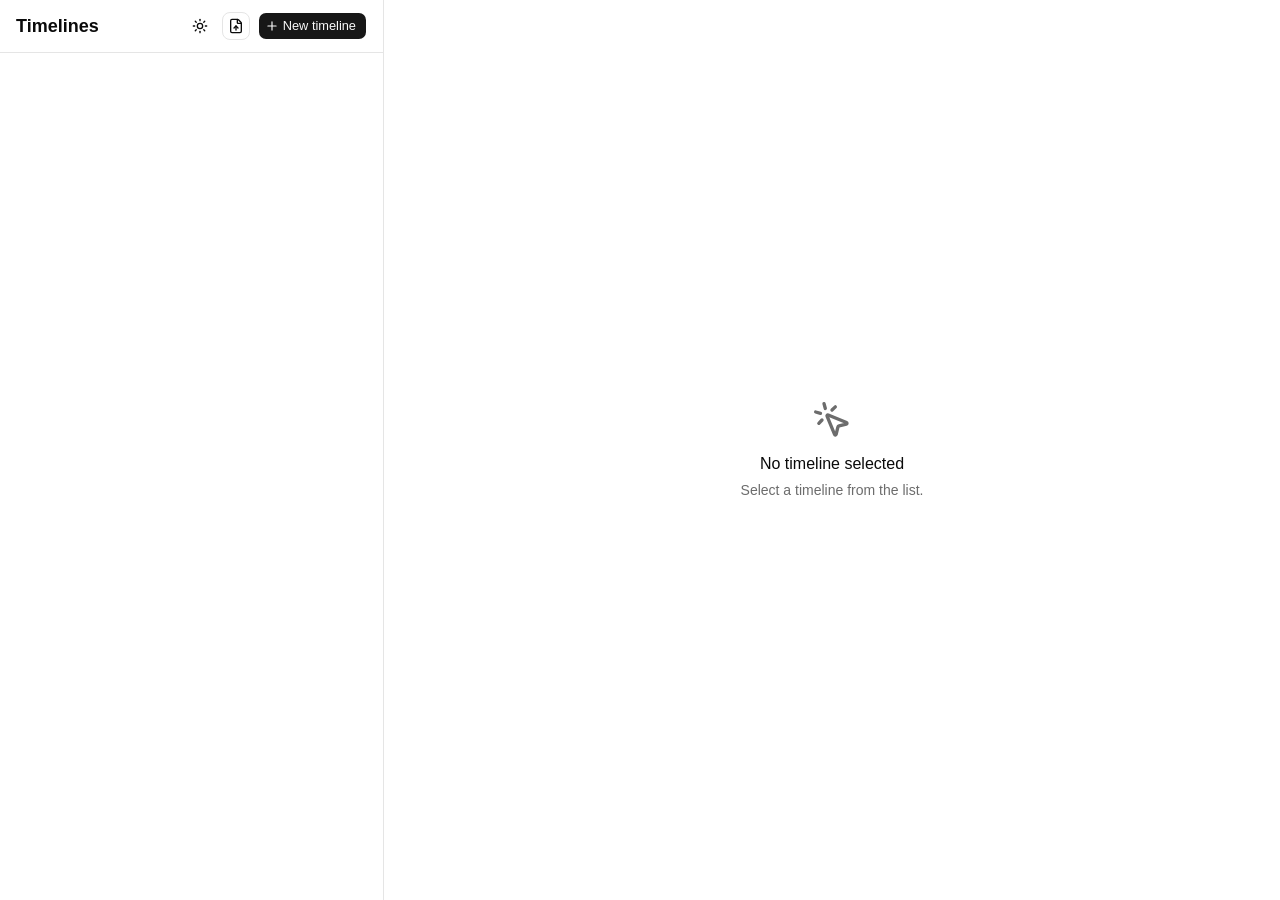
Scenario: dashboard › cancel closes the create dialog after confirming and writes nothing
Click the link "New timeline": (312, 26) [258,12,367,40]
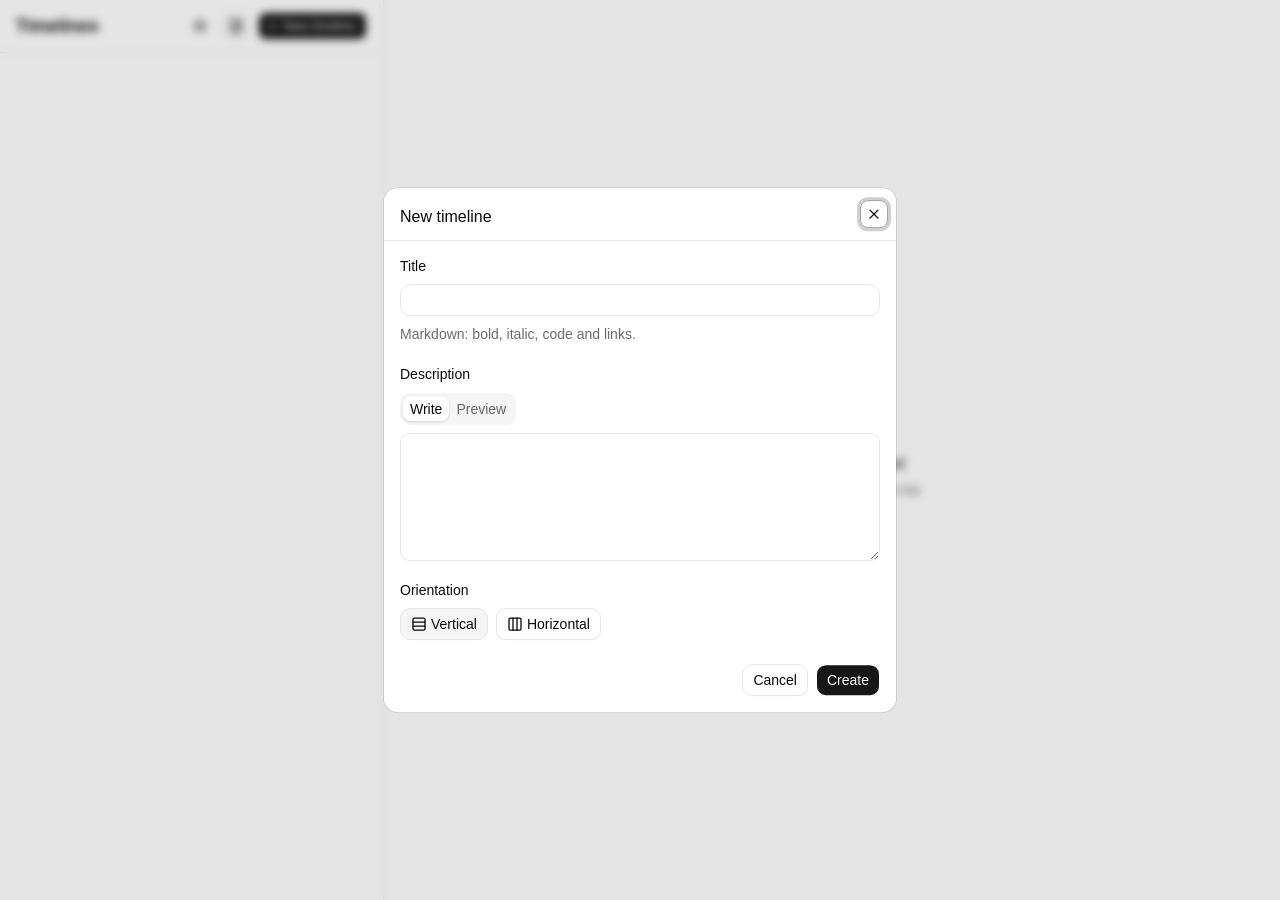
In the field labelled "Title": (640, 300) [400,284,880,316], type "Draft"
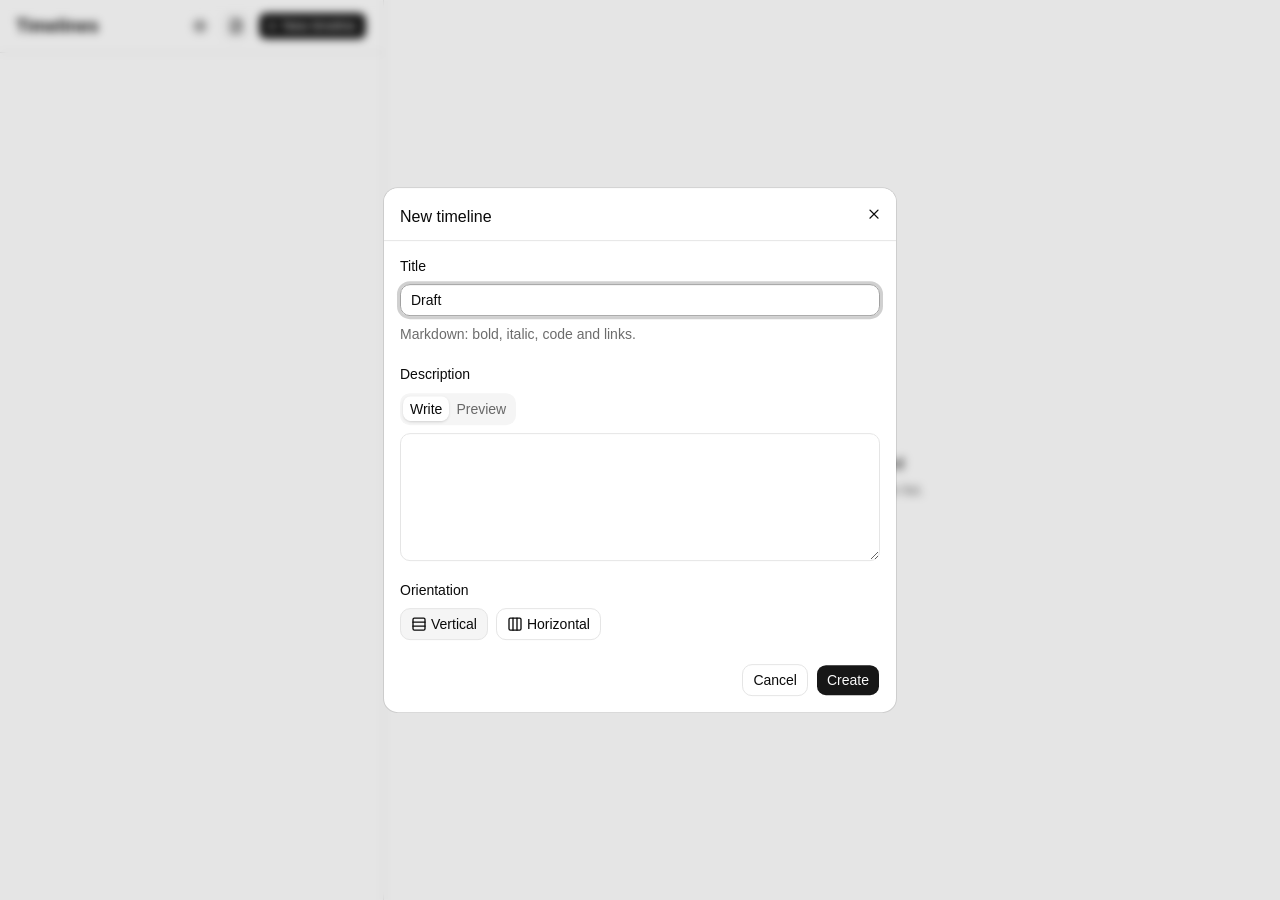
Click the button "Cancel": (775, 680) [742,664,808,696]
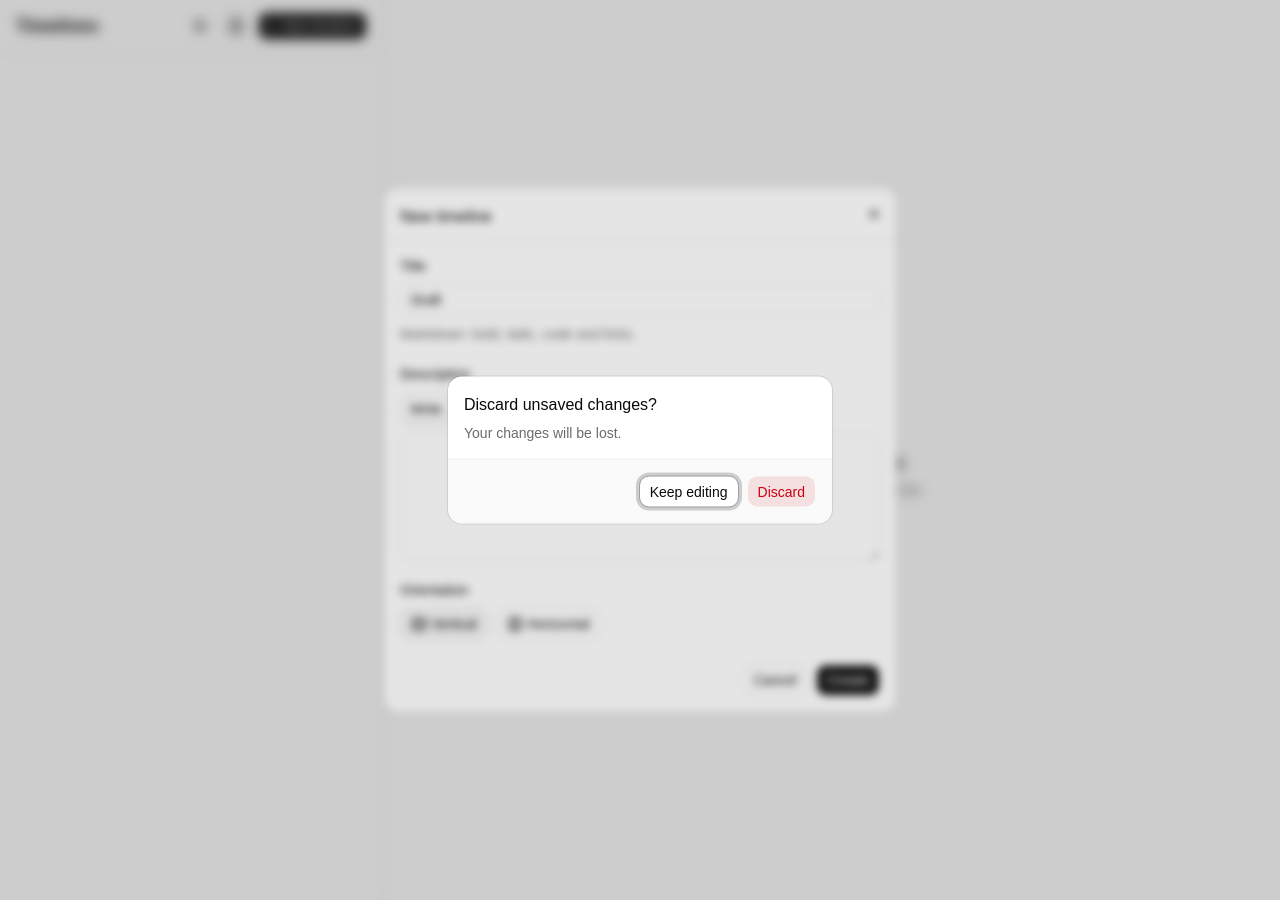
Click the button "Discard": (781, 492) [746,476,816,508]
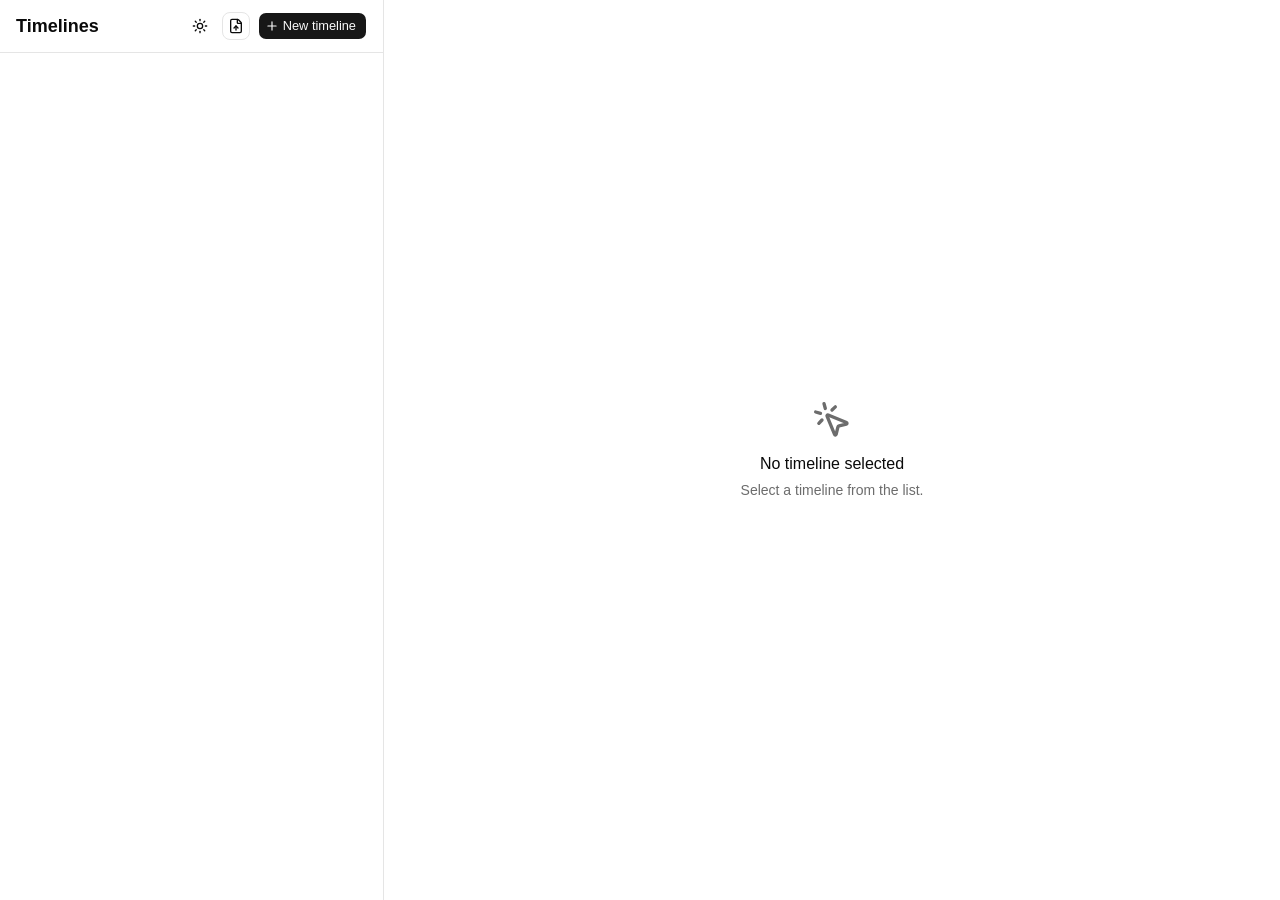
Check: the dialog is gone
